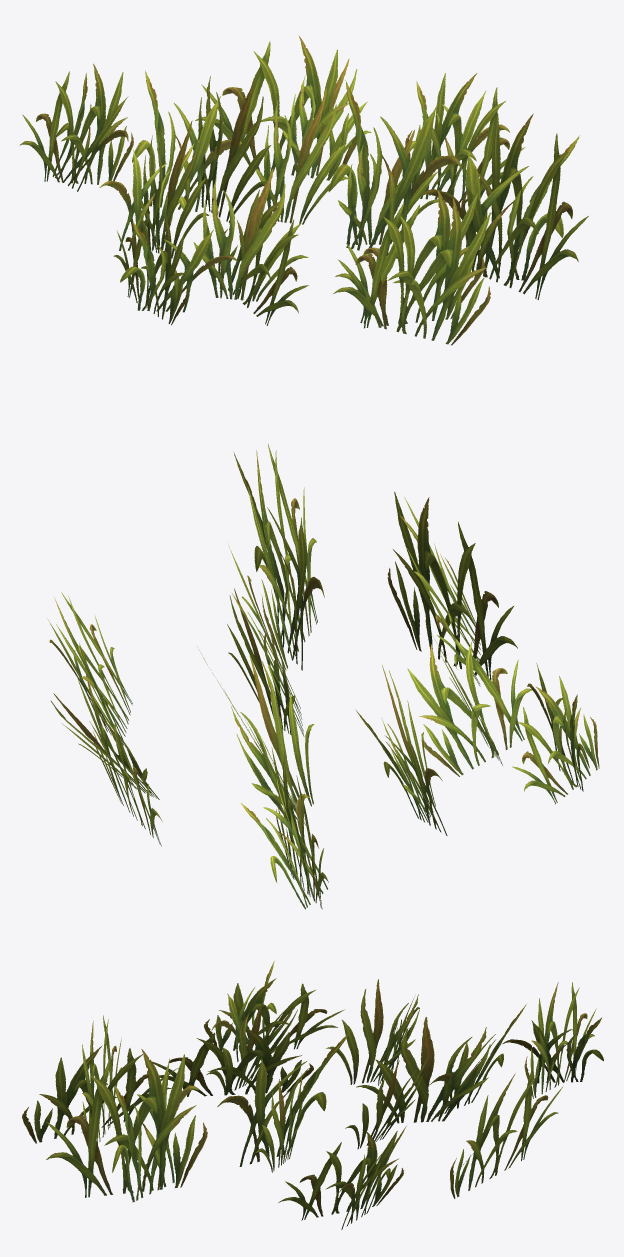
Rendered from cao3.FBX.
3 views of the same model, one above another, from view 1: azimuth 30°, elevation 25°; view 2: azimuth 150°, elevation 25°; view 3: azimuth 270°, elevation 25° (orthographic). The views are drawn at different scales.
Parts seen in each view (by area): view 1: cao6; view 2: cao6; view 3: cao6.
Boxes of the visible parts, bbox=[...] form: cao6: bbox=[19, 35, 588, 345]; cao6: bbox=[48, 443, 599, 909]; cao6: bbox=[22, 961, 603, 1229].
Bounding box in the file's own units: 853 × 347 × 992.
Materials: 1 (1 with a texture image).
